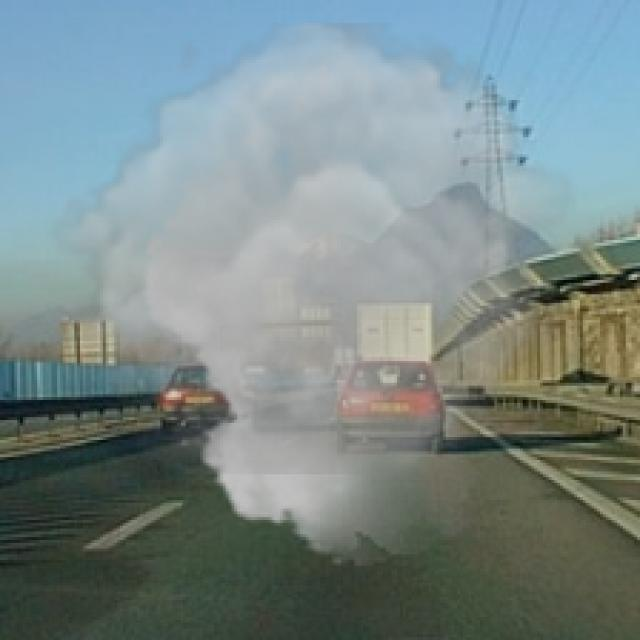smoke: (46, 23, 577, 566)
